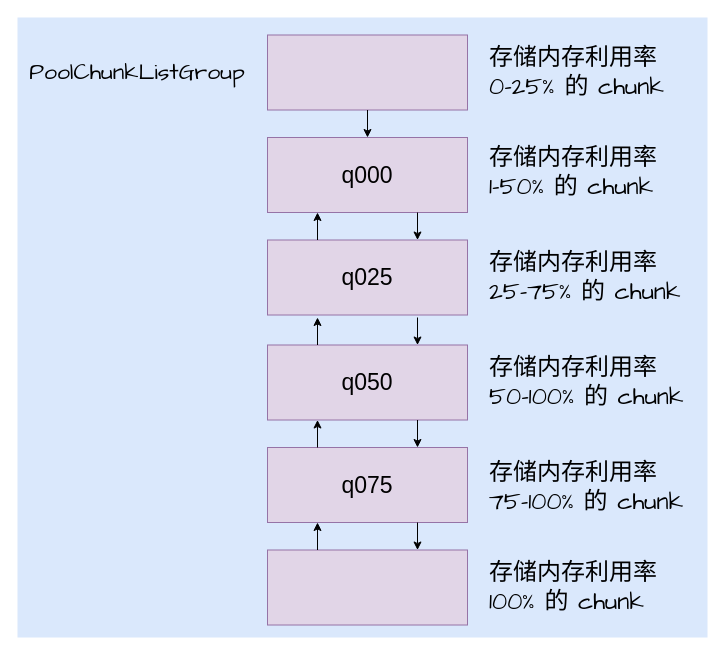
The diagram is 724 pixels wide and 654 high, and some of its shapes have lost their labels. The shapes that lost their labels are listed below. From the top down, each one's box as (x1, y1, x2, y2) in pixels, then its label:
(266, 34, 468, 110): qInit
(266, 549, 468, 625): q100
